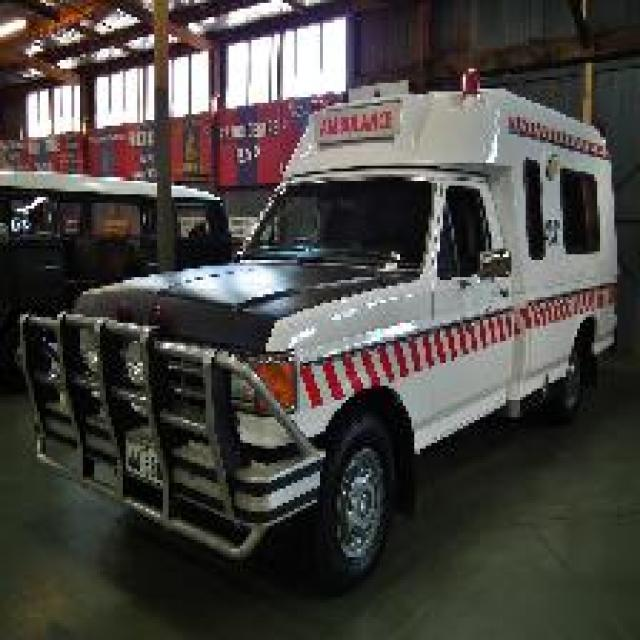emergency: (14, 69, 622, 595)
